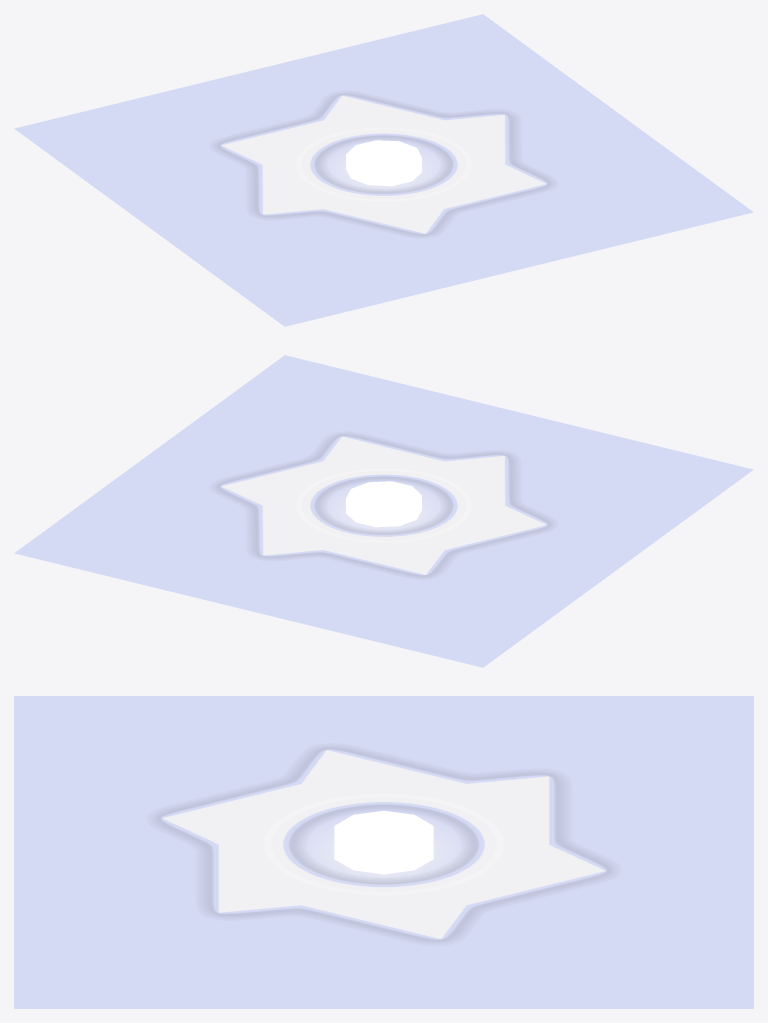
Rendered from fx_chakram_t2.glb.
3 views of the same model, one above another, from view 1: azimuth 30°, elevation 25°; view 2: azimuth 150°, elevation 25°; view 3: azimuth 270°, elevation 25° (orthographic). The views are drawn at different scales.
Visible parts, largest first — view 1: fx_chakram_halo, fx_chakram, fx_chakram_metal; view 2: fx_chakram_halo, fx_chakram, fx_chakram_metal; view 3: fx_chakram_halo, fx_chakram, fx_chakram_metal.
Part boxes in pixels (x1=…): fx_chakram_halo: x1=14, y1=14, x2=753, y2=326; fx_chakram: x1=216, y1=93, x2=551, y2=235; fx_chakram_metal: x1=346, y1=140, x2=421, y2=186; fx_chakram_halo: x1=14, y1=355, x2=753, y2=667; fx_chakram: x1=216, y1=434, x2=551, y2=576; fx_chakram_metal: x1=346, y1=481, x2=421, y2=527; fx_chakram_halo: x1=14, y1=696, x2=753, y2=1008; fx_chakram: x1=155, y1=747, x2=612, y2=941; fx_chakram_metal: x1=334, y1=810, x2=433, y2=874.
Size of the model in its own units: 1.7 by 0.05 by 1.7.
Materials: 3 (2 with a texture image).
